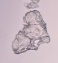microplastic: (10, 9, 52, 55), (22, 1, 41, 10)
